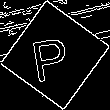P_N: (33, 27, 77, 83)
